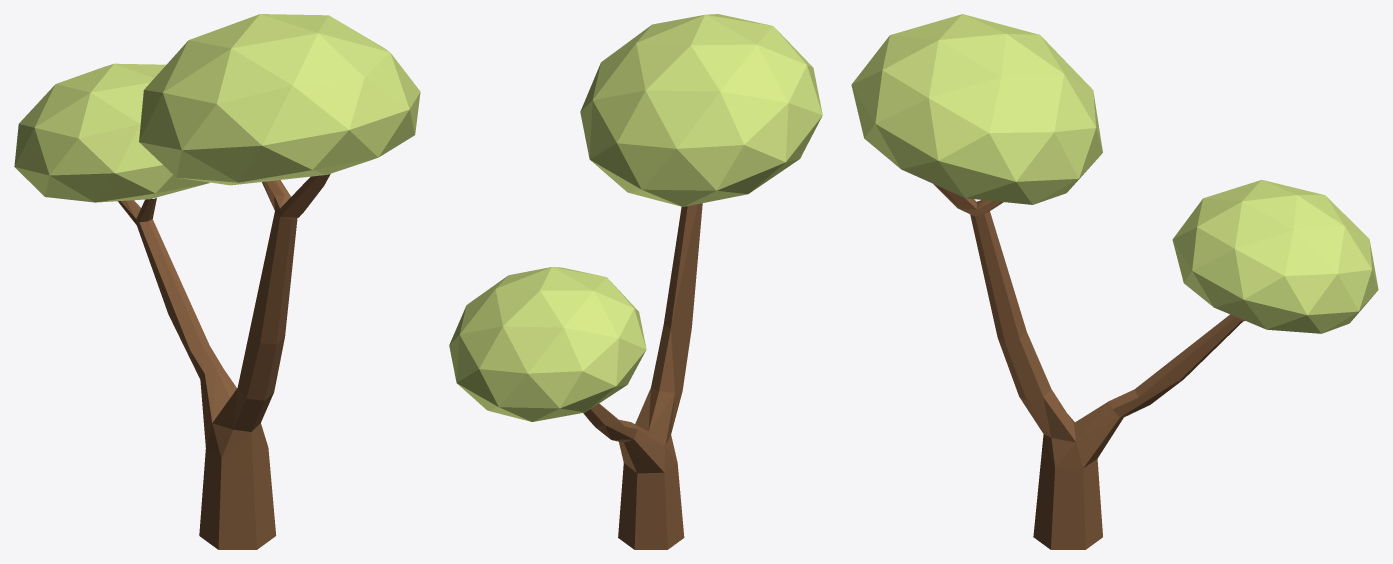
Rendered from acacia-lo.glb.
The picture shows the model from 3 angles, left to right: view 1: azimuth 30°, elevation 25°; view 2: azimuth 150°, elevation 25°; view 3: azimuth 270°, elevation 25°; orthographic projection. The views are drawn at different scales.
Visible parts, largest first — view 1: Tree2; view 2: Tree2; view 3: Tree2.
Part boxes in pixels (<box>): Tree2: <box>14,14,420,549</box>; Tree2: <box>449,14,822,549</box>; Tree2: <box>851,14,1378,549</box>.
Size of the model in its own units: 2.32 by 5.13 by 4.89.
